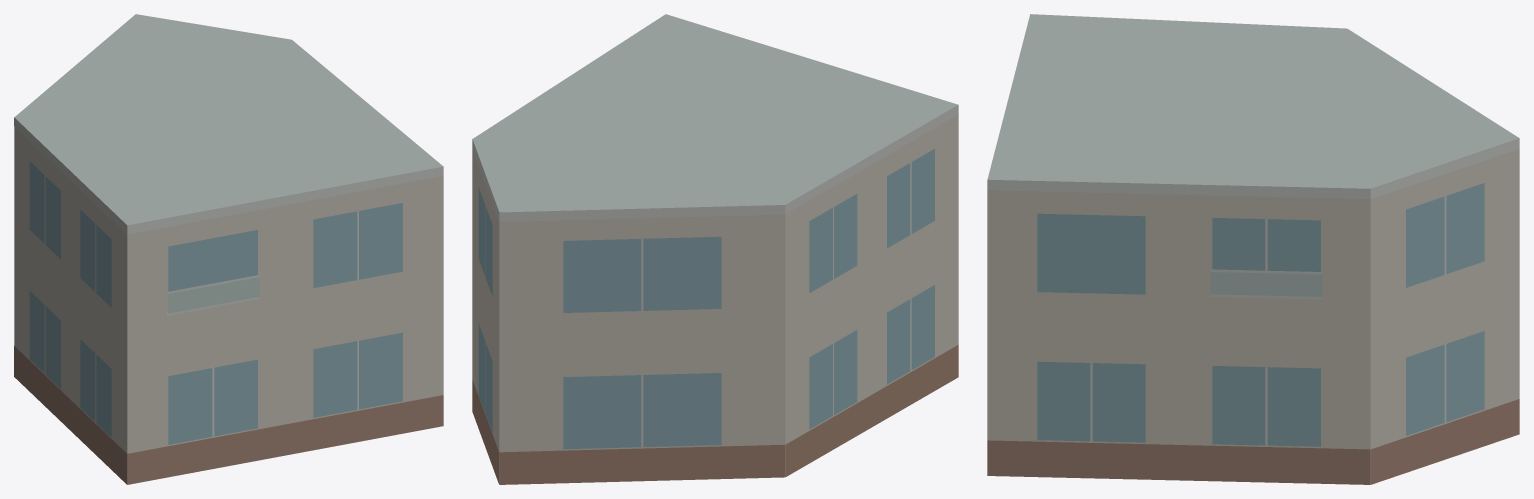
Rendered from survey-upis-32908980.glb.
The picture shows the model from 3 angles, left to right: view 1: azimuth 30°, elevation 25°; view 2: azimuth 150°, elevation 25°; view 3: azimuth 270°, elevation 25°; orthographic projection. The views are drawn at different scales.
Visible parts, largest first — view 1: survey-upis-32908980.tmp; view 2: survey-upis-32908980.tmp; view 3: survey-upis-32908980.tmp.
Boxes of the visible parts, <box> form: survey-upis-32908980.tmp: <box>14,14,443,484</box>; survey-upis-32908980.tmp: <box>472,14,958,484</box>; survey-upis-32908980.tmp: <box>987,14,1519,484</box>.
Size of the model in its own units: 8.74 by 6.9 by 11.25.
